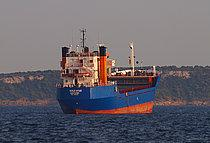Ship: (54, 25, 165, 119)
